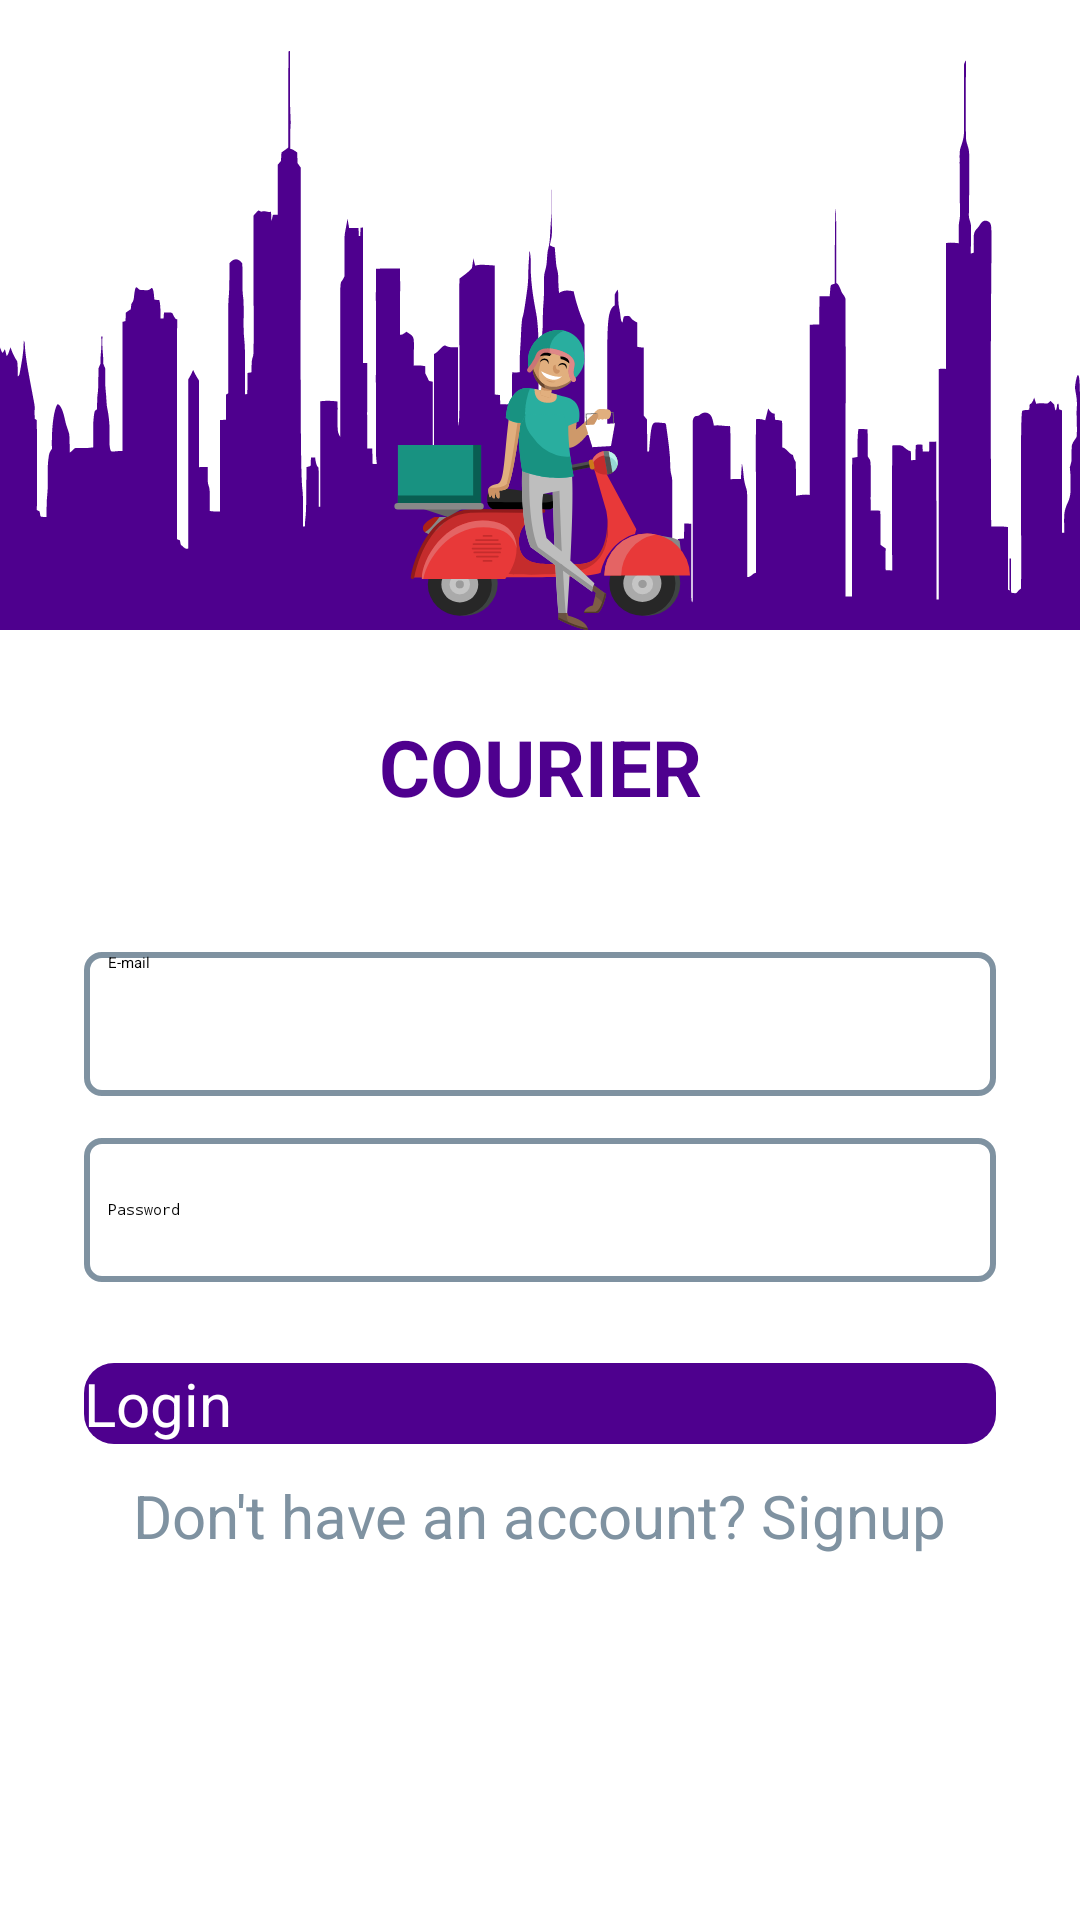

Screen size 1080 x 1920. Icon name, then its center in pixels as (x=x, y=y):
deliverman: (x=540, y=480)
